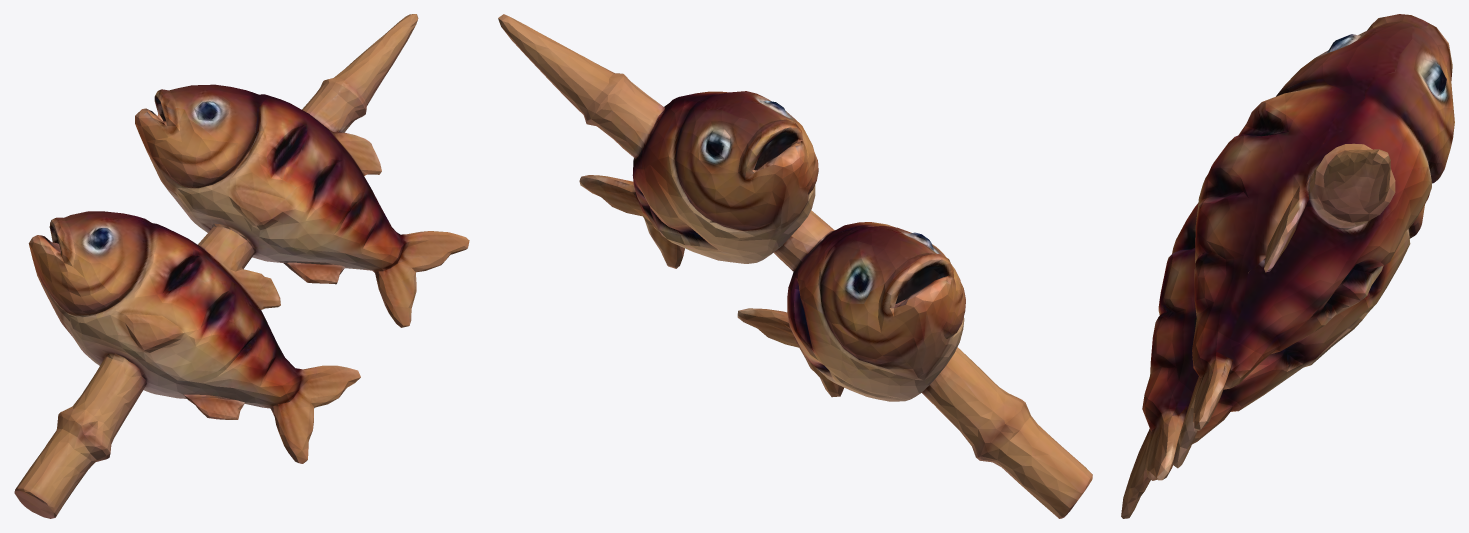
File: fish_skewer.glb
3 renders of one model, left to right at view 1: azimuth 30°, elevation 25°; view 2: azimuth 150°, elevation 25°; view 3: azimuth 270°, elevation 25°, orthographic. The views are drawn at different scales.
Parts seen in each view (by area): view 1: tmp_wwxpicp.ply; view 2: tmp_wwxpicp.ply; view 3: tmp_wwxpicp.ply.
Boxes of the visible parts, x1,y1,x2,y2 form: tmp_wwxpicp.ply: [14, 14, 469, 518]; tmp_wwxpicp.ply: [498, 14, 1092, 518]; tmp_wwxpicp.ply: [1121, 14, 1454, 518].
Size of the model in its own units: 1.99 by 1.53 by 0.8495.
1 material, 1 textured.
